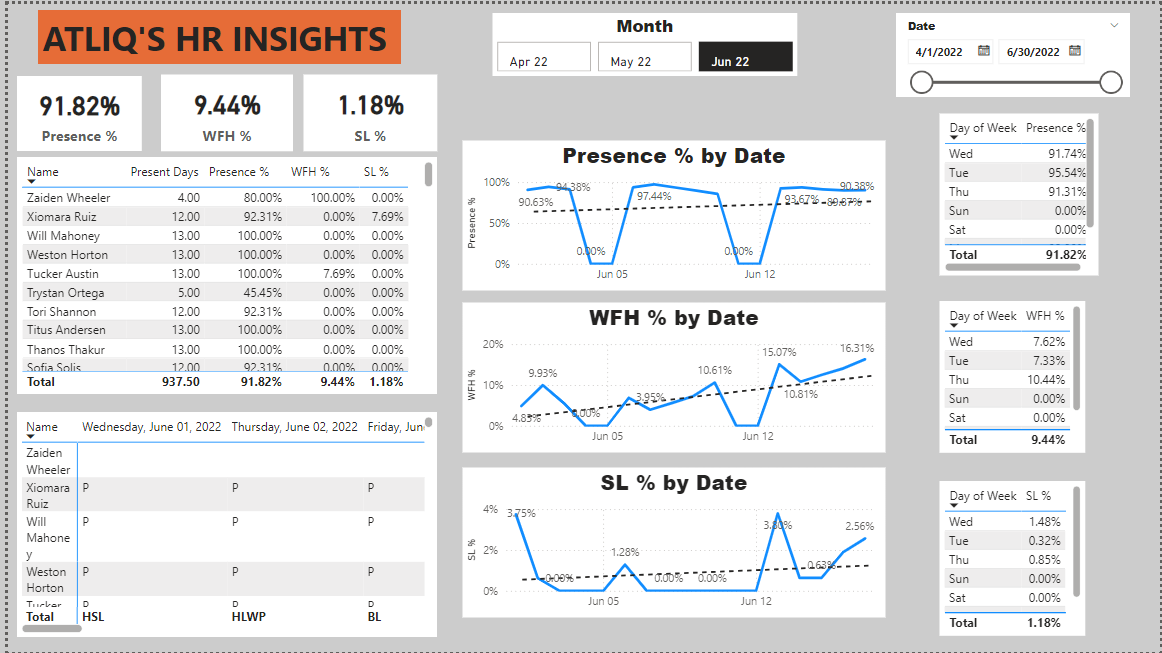

What the dashboard file says about the page in this screenshot:
{"tool":"powerbi","page":{"name":"Presence Insights","canvas":[1280,720],"ordinal":0},"visuals":[{"type":"advancedSlicerVisual","fields":{"Values":["Final Data.Month"]},"box":[538.3,10,338.3,70],"z":0},{"type":"card","fields":{"Values":["Measure Table.WFH %"]},"box":[170,78.3,146.7,85],"z":1000},{"type":"card","fields":{"Values":["Measure Table.Presence %"]},"box":[10,80,138.3,83.3],"z":2000},{"type":"card","fields":{"Values":["Measure Table.SL %"]},"box":[328.3,78.3,148.3,85],"z":3000},{"type":"tableEx","fields":{"Values":["Final Data.Name","Measure Table.Present Days","Measure Table.Presence %","Measure Table.WFH %","Measure Table.SL %"]},"box":[10,170.6,466.7,263.3],"z":4000},{"type":"slicer","fields":{"Values":["Final Data.Date"]},"box":[986.7,10,260,93.3],"z":5000},{"type":"lineChart","fields":{"Y":["Measure Table.Presence %"],"Category":["Final Data.Date"]},"box":[505,151.7,470,166.7],"z":6000},{"type":"pivotTable","fields":{"Rows":["Final Data.Name"],"Values":["Final Data.Value"],"Columns":["Final Data.Date"]},"box":[10,453.3,466.7,250],"z":7000},{"type":"lineChart","fields":{"Y":["Measure Table.WFH %"],"Category":["Final Data.Date"]},"box":[505,331.7,470,166.7],"z":8000},{"type":"lineChart","fields":{"Y":["Measure Table.SL %"],"Category":["Final Data.Date"]},"box":[505,515,470,166.7],"z":9000},{"type":"tableEx","fields":{"Values":["Final Data.Day of Week","Measure Table.Presence %"]},"box":[1035,121.7,176.7,180],"z":10000},{"type":"tableEx","fields":{"Values":["Final Data.Day of Week","Measure Table.WFH %"]},"box":[1035,330,161.7,168.3],"z":11000},{"type":"tableEx","fields":{"Values":["Final Data.Day of Week","Measure Table.SL %"]},"box":[1035,530.6,161.7,171.7],"z":12000},{"type":"textbox","box":[33.3,6.7,403.3,60],"z":13000}]}

Visuals, with their boxes in screenshot pixels (x1, y1, x2, y2), scaled from the page's 1280x720 canvas onto the 1162x653 screenshot:
advancedSlicerVisual - Final Data.Month: <region>489, 9, 796, 73</region>
card - Measure Table.WFH %: <region>154, 71, 288, 148</region>
card - Measure Table.Presence %: <region>9, 73, 135, 148</region>
card - Measure Table.SL %: <region>298, 71, 433, 148</region>
tableEx - Final Data.Name x Measure Table.Present Days: <region>9, 155, 433, 394</region>
slicer - Final Data.Date: <region>896, 9, 1132, 94</region>
lineChart - Measure Table.Presence % x Final Data.Date: <region>458, 138, 885, 289</region>
pivotTable - Final Data.Name x Final Data.Value: <region>9, 411, 433, 638</region>
lineChart - Measure Table.WFH % x Final Data.Date: <region>458, 301, 885, 452</region>
lineChart - Measure Table.SL % x Final Data.Date: <region>458, 467, 885, 618</region>
tableEx - Final Data.Day of Week x Measure Table.Presence %: <region>940, 110, 1100, 274</region>
tableEx - Final Data.Day of Week x Measure Table.WFH %: <region>940, 299, 1086, 452</region>
tableEx - Final Data.Day of Week x Measure Table.SL %: <region>940, 481, 1086, 637</region>
textbox: <region>30, 6, 396, 60</region>
